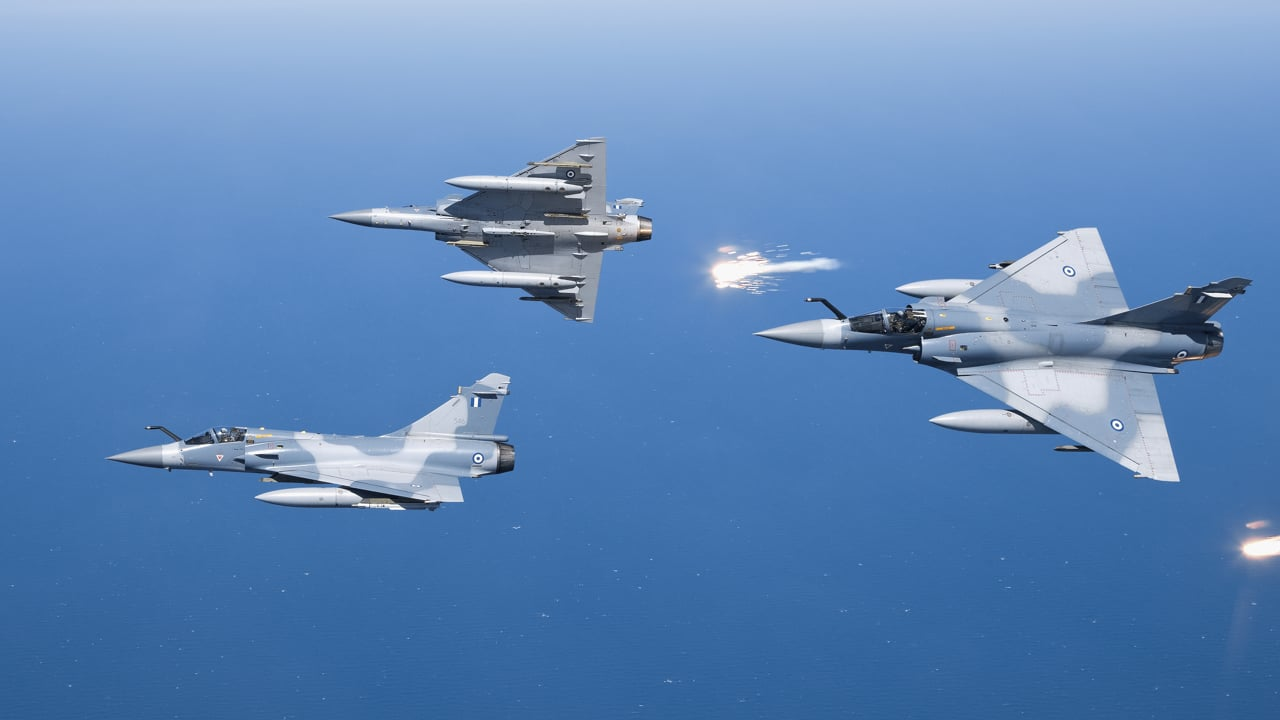Mirage2000: (750, 227, 1253, 483), (328, 136, 654, 324), (104, 372, 515, 511)
